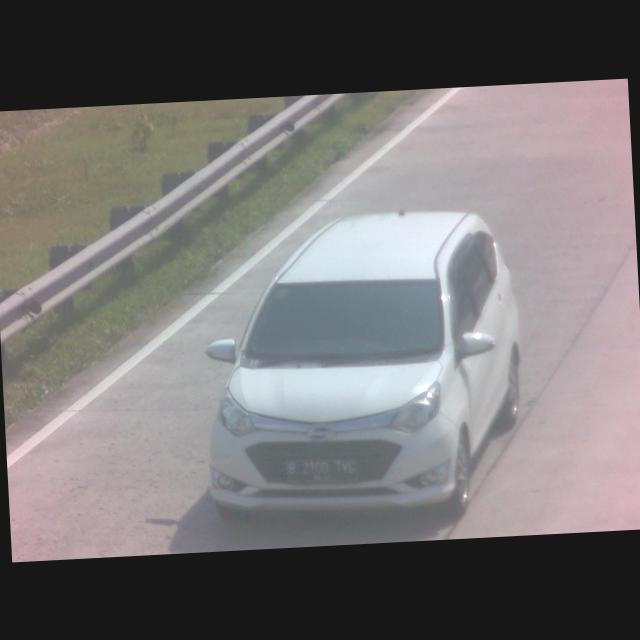plate: (285, 454, 359, 481)
